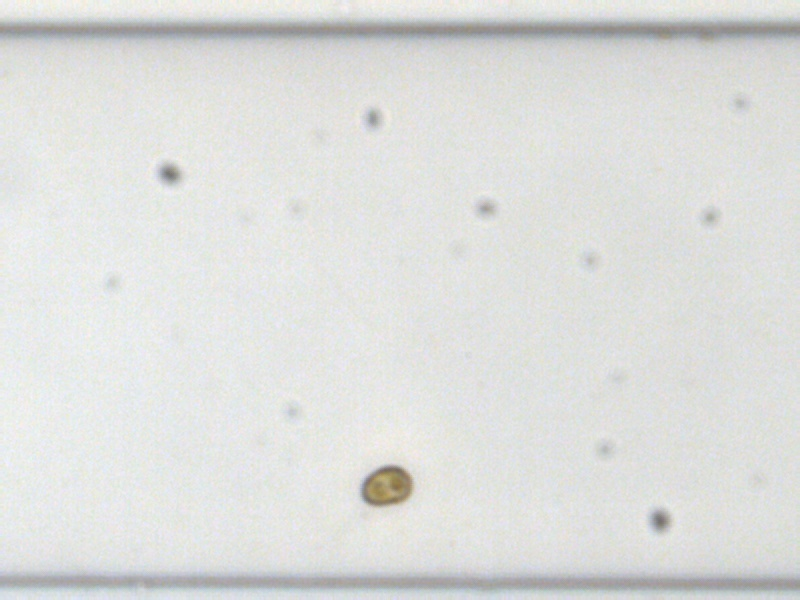Effrenium: (357, 465, 413, 510)
